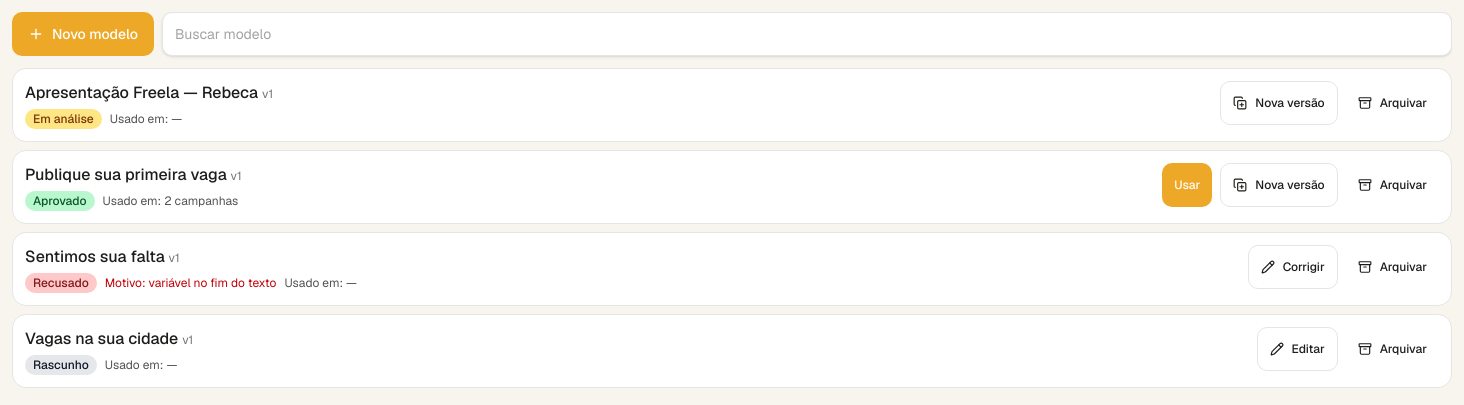
Test case: MarketingTemplatesTab › busca pelo nome, sem acento
Expected: the text "Publique sua primeira vaga" is shown, [25,164,227,185]
Type "apresentacao" into the field with placeholder "Buscar modelo" at (807, 34), box [162,12,1452,56]
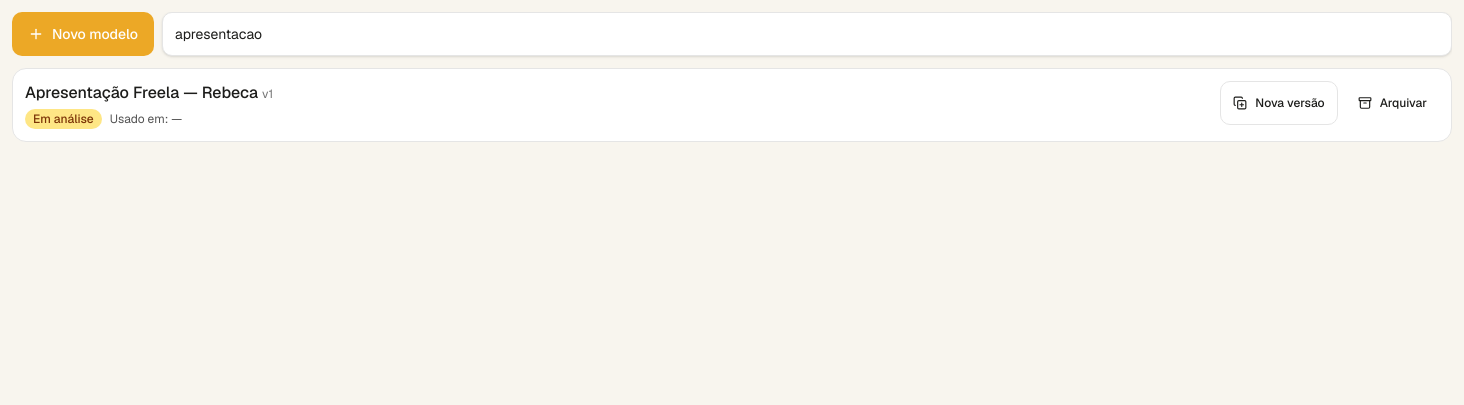
Expected: the text "Apresentação Freela — Rebeca" is shown, [25,82,258,103]
Expected: the text "Publique sua primeira vaga" is gone
